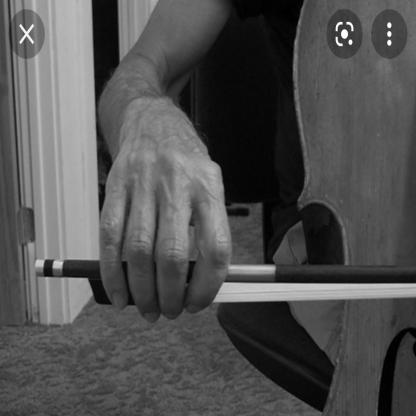good: (70, 112, 252, 330)
